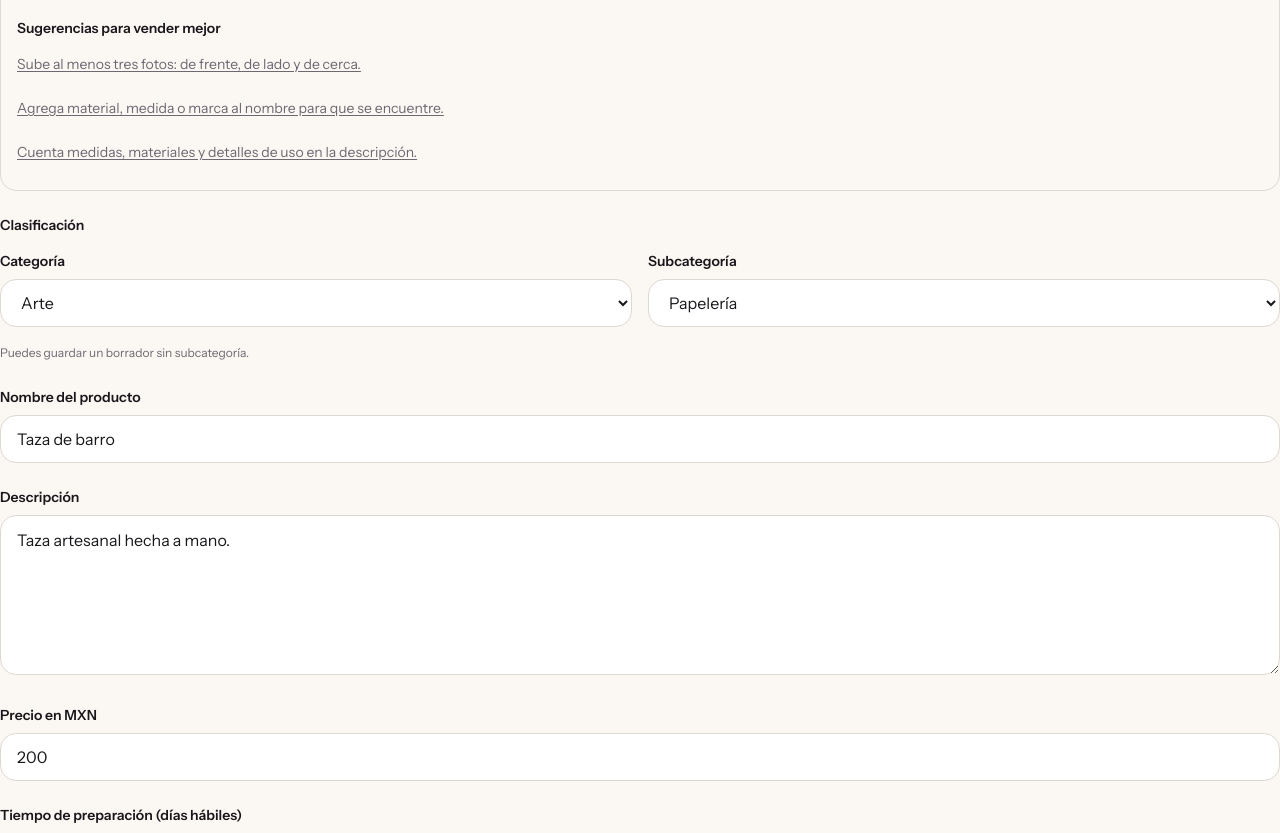
product submission recovery › keeps current classification and other fields after validation
This screenshot has width=1280, height=833.
Select "Manualidades" in the dropdown labelled "Subcategoría" at (964, 303), box [648,279,1279,327]
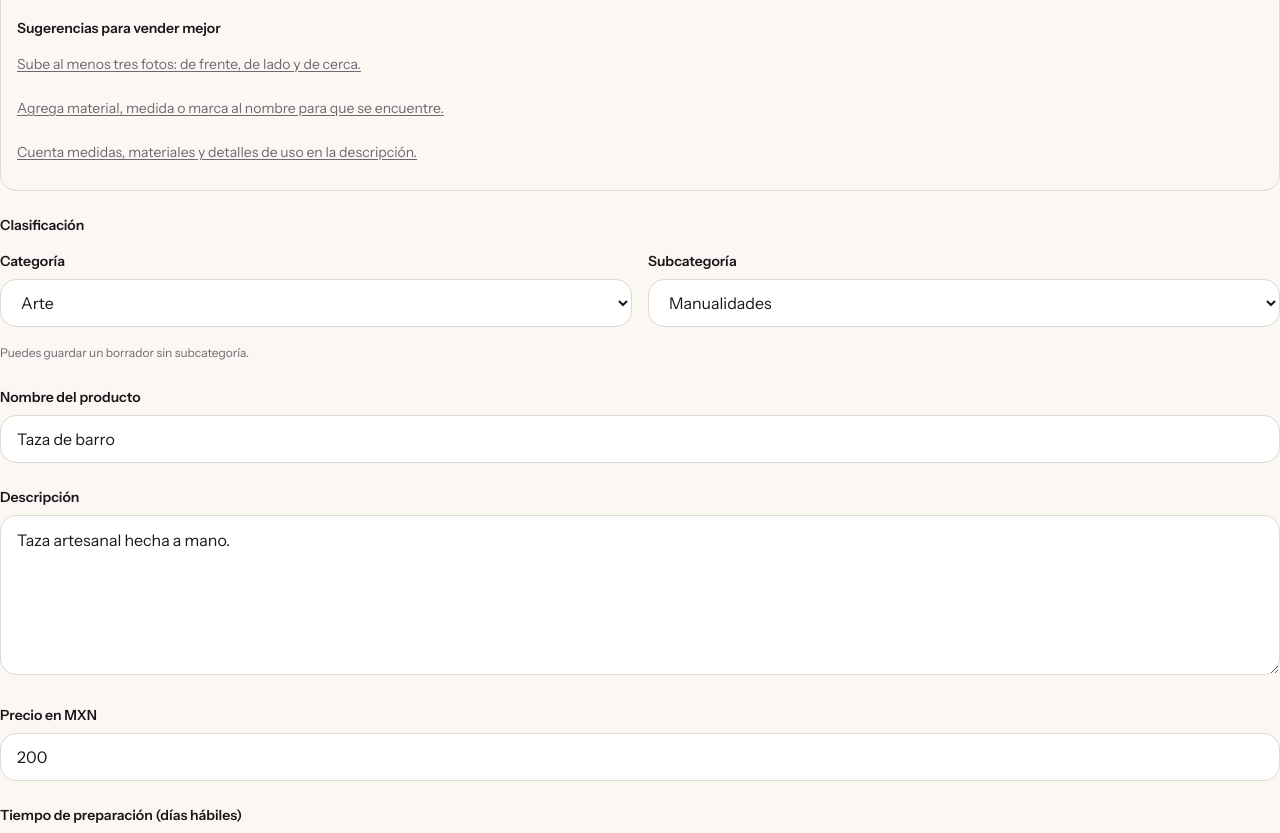
Type "Nombre nuevo" into the field labelled "Nombre del producto" at (640, 439), box [0,415,1279,463]
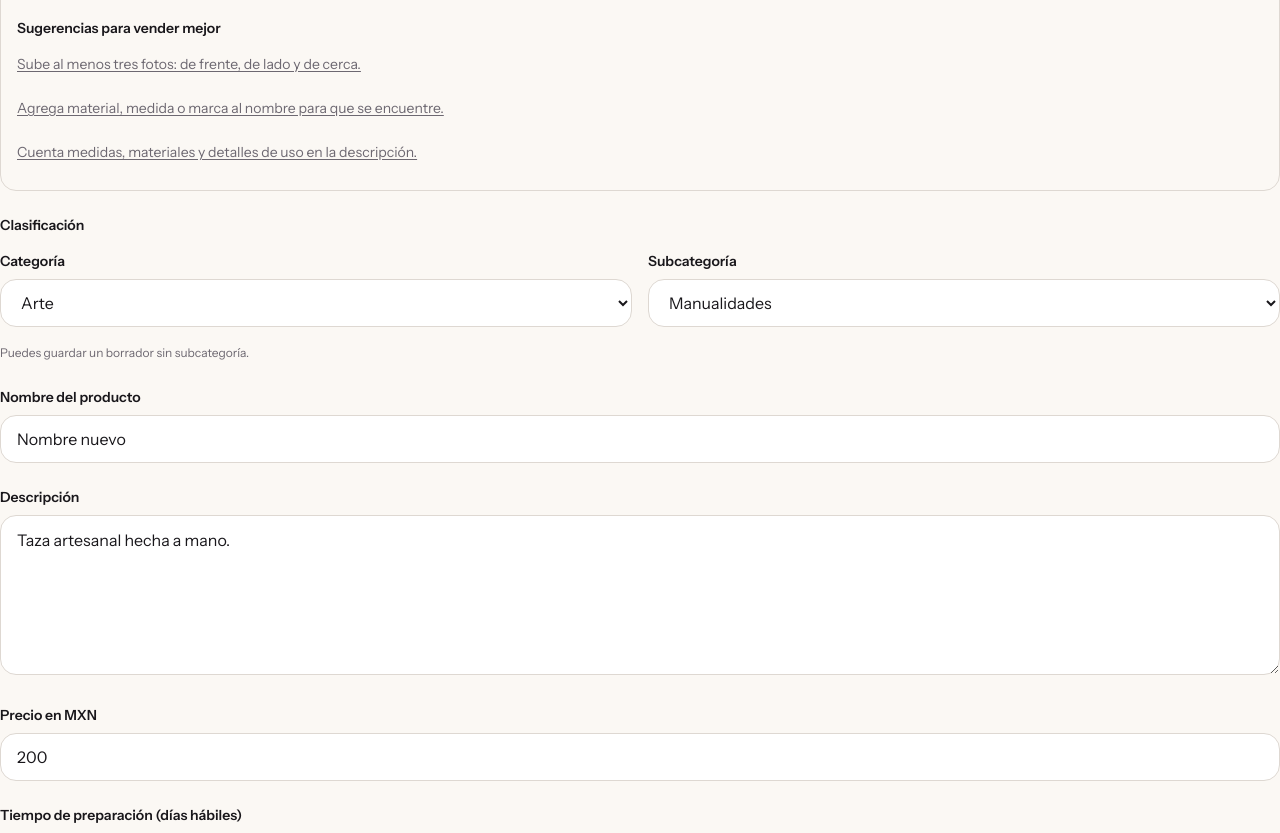
Replace the text in the text box labelled "Descripción" with "Descripción nueva que debe conservarse." at (640, 595), box [0,515,1279,675]
(page scrolled)
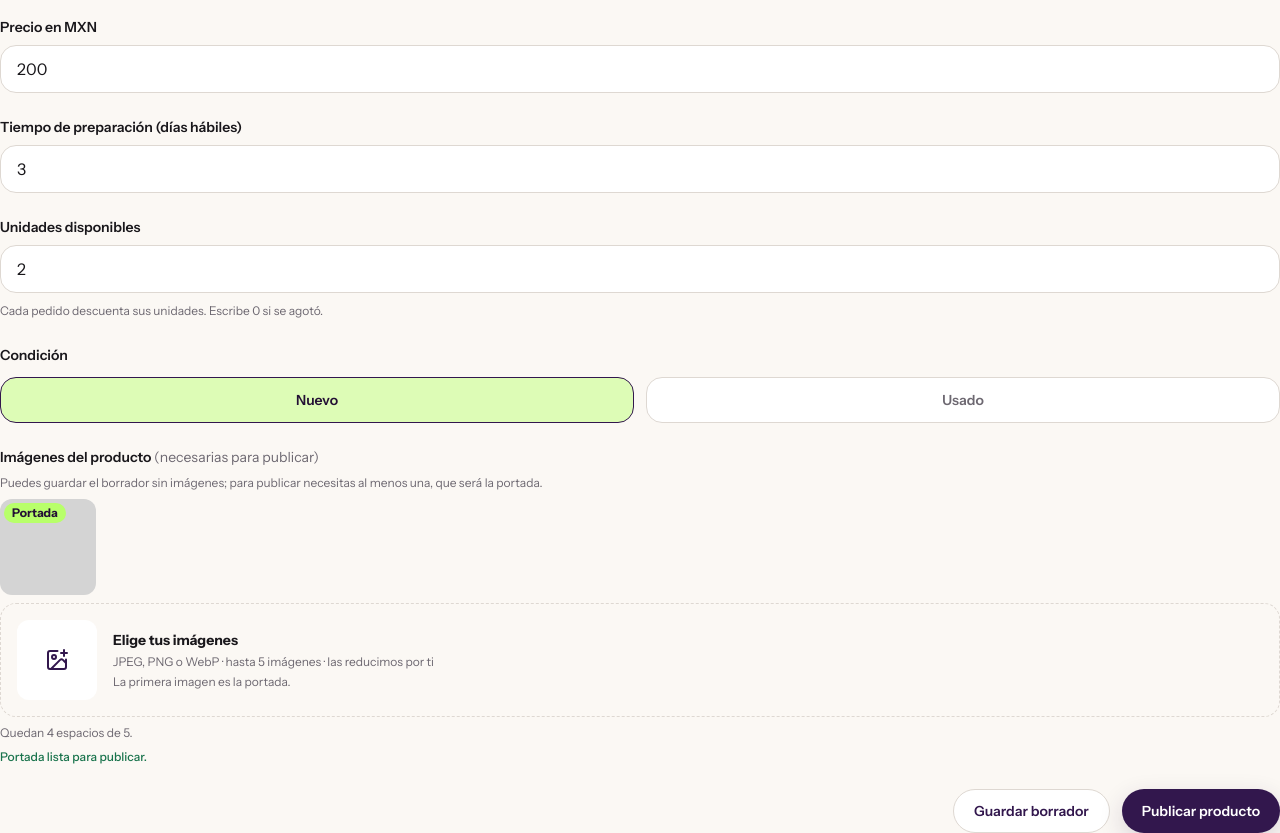
Click the button "Guardar borrador" at (1031, 811), box [953,789,1110,832]
(page scrolled)
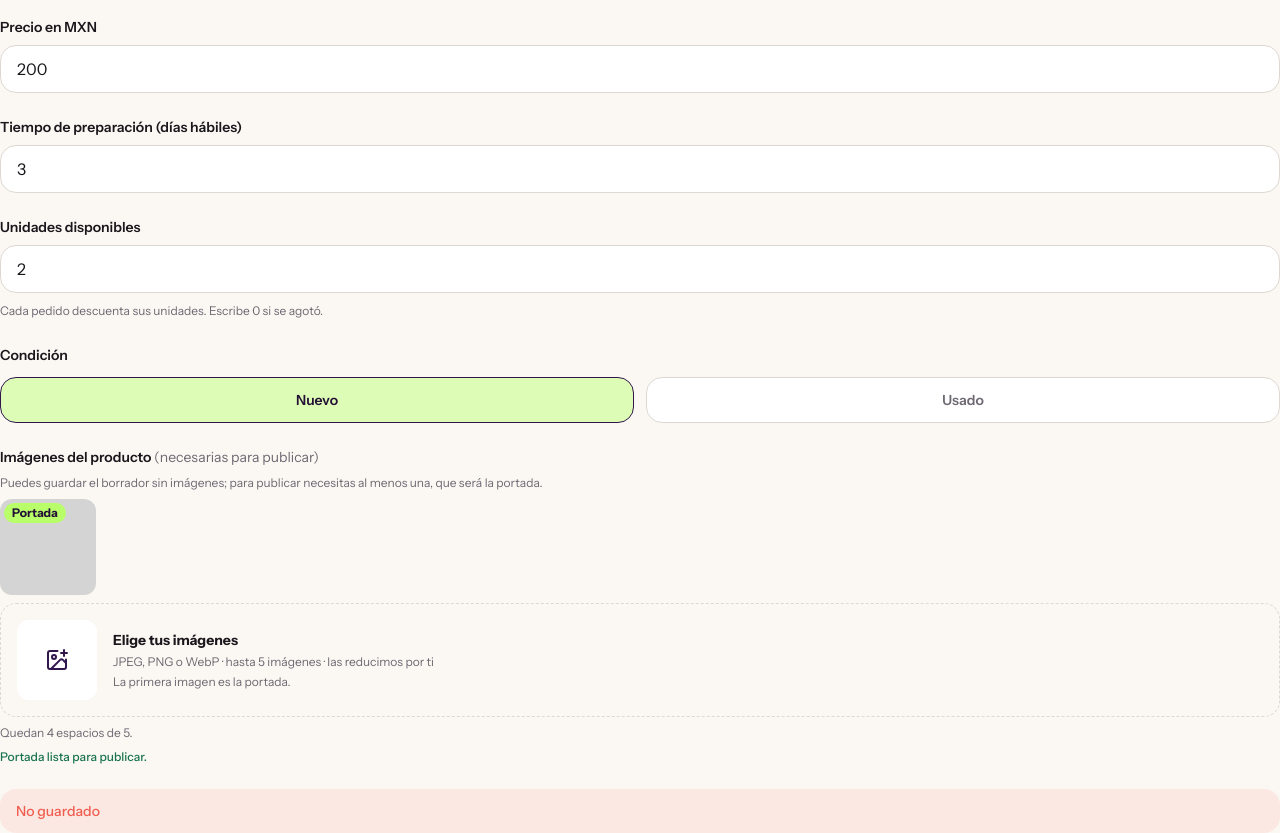
Expected: the text "No guardado" is shown, [0,789,1279,832]
